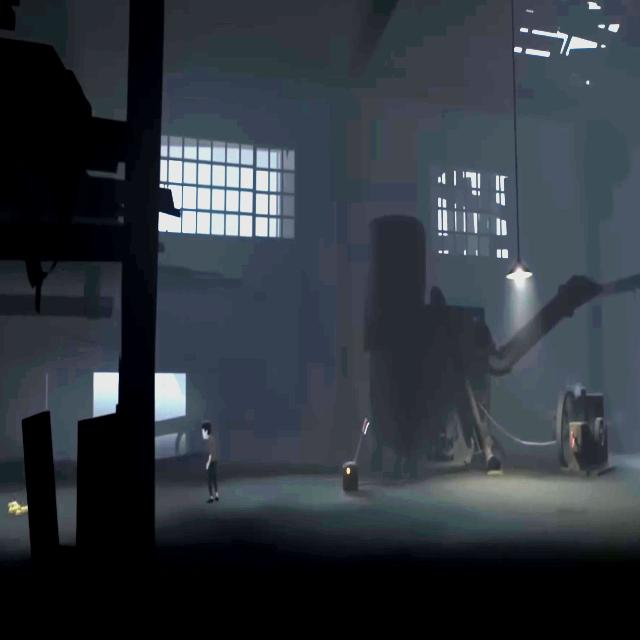boy: (200, 421, 222, 504)
